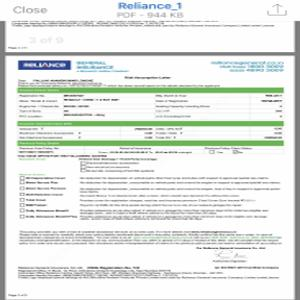image: (15, 58, 74, 73)
table: (18, 88, 286, 120), (17, 119, 284, 146)
text: (78, 176, 282, 221), (17, 229, 284, 247), (213, 57, 285, 73)
